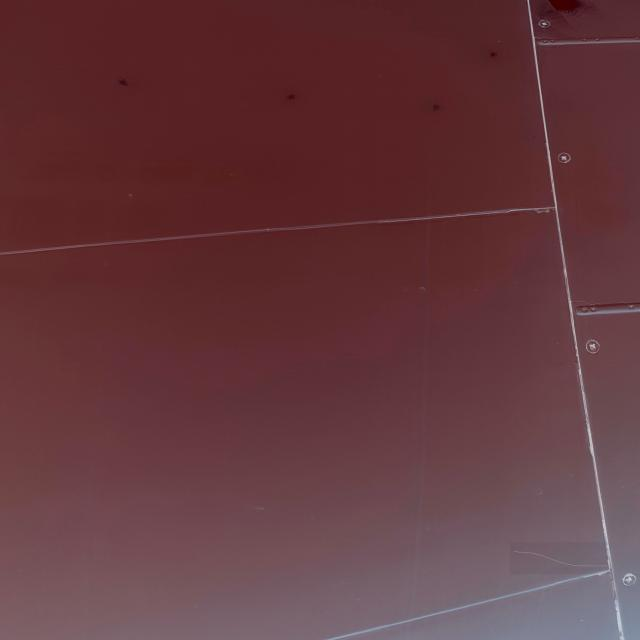crack: (511, 543, 612, 575)
